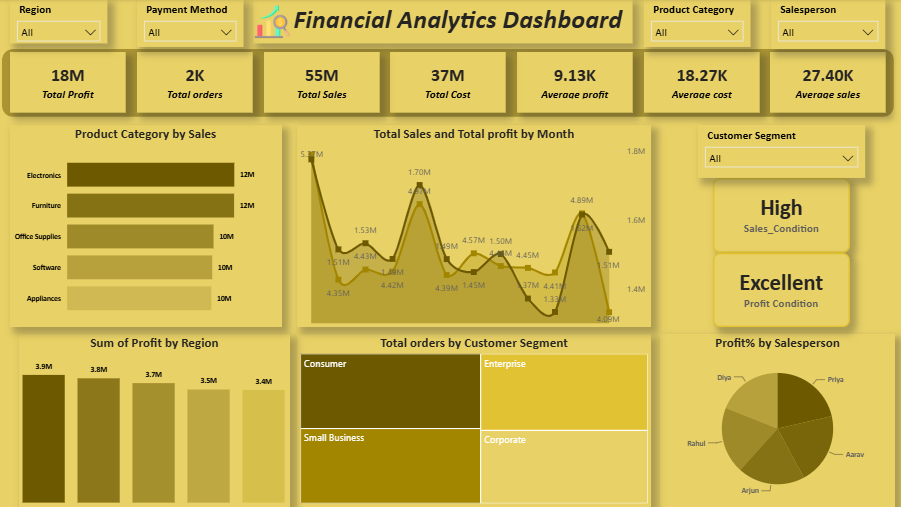

This screenshot's page, from the dashboard's own definition file:
{"tool":"powerbi","page":{"name":"FAD","canvas":[1280,720],"ordinal":0},"visuals":[{"type":"shape","box":[4.3,70.9,1264.3,96.4],"z":0},{"type":"textbox","box":[360,0,538.5,63.1],"z":1000},{"type":"cardVisual","fields":{"Data":["dataset.Total profit"]},"box":[15.8,75,164.5,85.5],"z":2000},{"type":"cardVisual","fields":{"Data":["dataset.Total orders"]},"box":[195.4,75,164.5,85.5],"z":3000},{"type":"cardVisual","fields":{"Data":["dataset.Average profit"]},"box":[734.2,75,164.5,85.5],"z":4000},{"type":"cardVisual","fields":{"Data":["dataset.Total Cost"]},"box":[554.6,75,164.5,85.5],"z":5000},{"type":"cardVisual","fields":{"Data":["dataset.Average cost"]},"box":[913.8,75,164.5,85.5],"z":6000},{"type":"cardVisual","fields":{"Data":["dataset.Average sales"]},"box":[1093.4,75,164.5,85.5],"z":7000},{"type":"cardVisual","fields":{"Data":["dataset.Total Sales"]},"box":[375,75,164.5,85.5],"z":8000},{"type":"slicer","fields":{"Values":["dataset.Region"]},"box":[15.4,0,138.5,63.1],"z":9000},{"type":"barChart","title":"Product Category by Sales ","fields":{"Category":["dataset.Product_Category"],"Y":["Sum(dataset.Sales)"]},"box":[15.4,178.5,384.6,286.2],"z":10000},{"type":"lineChart","fields":{"Category":["dataset.Order_Date.Variation.Date Hierarchy.Month"],"Y":["dataset.Total Sales"],"Y2":["dataset.Total profit"]},"box":[422.4,178.6,501.7,286.3],"z":11000},{"type":"columnChart","fields":{"Category":["dataset.Region"],"Y":["Sum(dataset.Profit)"]},"box":[28,475,384,245],"z":12000},{"type":"treemap","fields":{"Group":["dataset.Customer_Segment"],"Values":["dataset.Total orders"]},"box":[422,475,502,245],"z":13000},{"type":"pieChart","fields":{"Y":["Avg(dataset.Profit_Margin)"],"Category":["dataset.Salesperson"]},"box":[936.9,474.8,333.1,245.2],"z":14000},{"type":"cardVisual","fields":{"Data":["dataset.Sales_Condition"]},"box":[1012,253.7,194.2,106.3],"z":15000},{"type":"cardVisual","fields":{"Data":["dataset.Profit Condition"]},"box":[1012.3,360,193.8,104.6],"z":16000},{"type":"slicer","fields":{"Values":["dataset.Product_Category"]},"box":[913.8,0,150.8,67.7],"z":17000},{"type":"slicer","fields":{"Values":["dataset.Customer_Segment"]},"box":[990.8,178.5,236.9,75.4],"z":18000},{"type":"slicer","fields":{"Values":["dataset.Payment_Method"]},"box":[195.4,0,150.8,67.7],"z":19000},{"type":"slicer","fields":{"Values":["dataset.Salesperson"]},"box":[1093.8,0,161.5,70.8],"z":20000},{"type":"image","box":[360,0,55.3,63.8],"z":20001}]}

Visuals, with their boxes in screenshot pixels (x1, y1, x2, y2), scaled from the page's 1280x720 canvas onto the 901x507 screenshot:
shape: 3 50 893 118
textbox: 253 0 632 44
cardVisual - dataset.Total profit: 11 53 127 113
cardVisual - dataset.Total orders: 138 53 253 113
cardVisual - dataset.Average profit: 517 53 633 113
cardVisual - dataset.Total Cost: 390 53 506 113
cardVisual - dataset.Average cost: 643 53 759 113
cardVisual - dataset.Average sales: 770 53 885 113
cardVisual - dataset.Total Sales: 264 53 380 113
slicer - dataset.Region: 11 0 108 44
"Product Category by Sales " barChart: 11 126 282 327
lineChart - dataset.Order_Date.Variation.Date Hierarchy.Month x dataset.Total Sales: 297 126 650 327
columnChart - dataset.Region x Sum(dataset.Profit): 20 334 290 506
treemap - dataset.Customer_Segment x dataset.Total orders: 297 334 650 506
pieChart - Avg(dataset.Profit_Margin) x dataset.Salesperson: 659 334 894 506
cardVisual - dataset.Sales_Condition: 712 179 849 254
cardVisual - dataset.Profit Condition: 713 254 849 327
slicer - dataset.Product_Category: 643 0 749 48
slicer - dataset.Customer_Segment: 697 126 864 179
slicer - dataset.Payment_Method: 138 0 244 48
slicer - dataset.Salesperson: 770 0 884 50
image: 253 0 292 45
